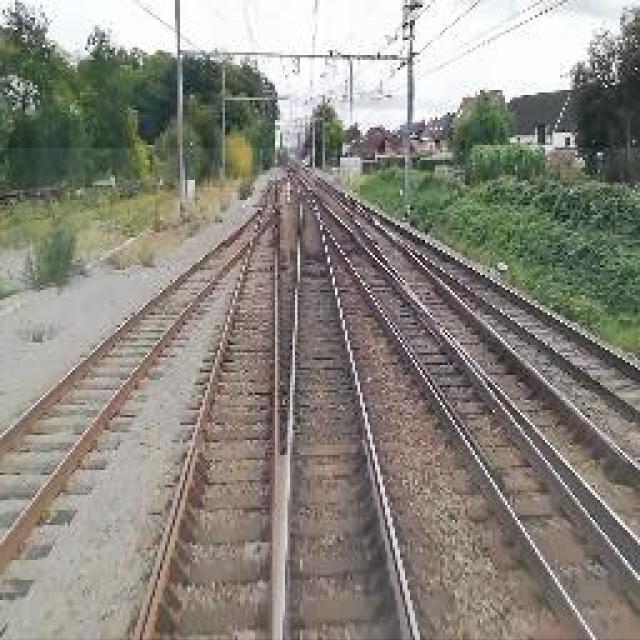rail: (1, 149, 640, 640)
